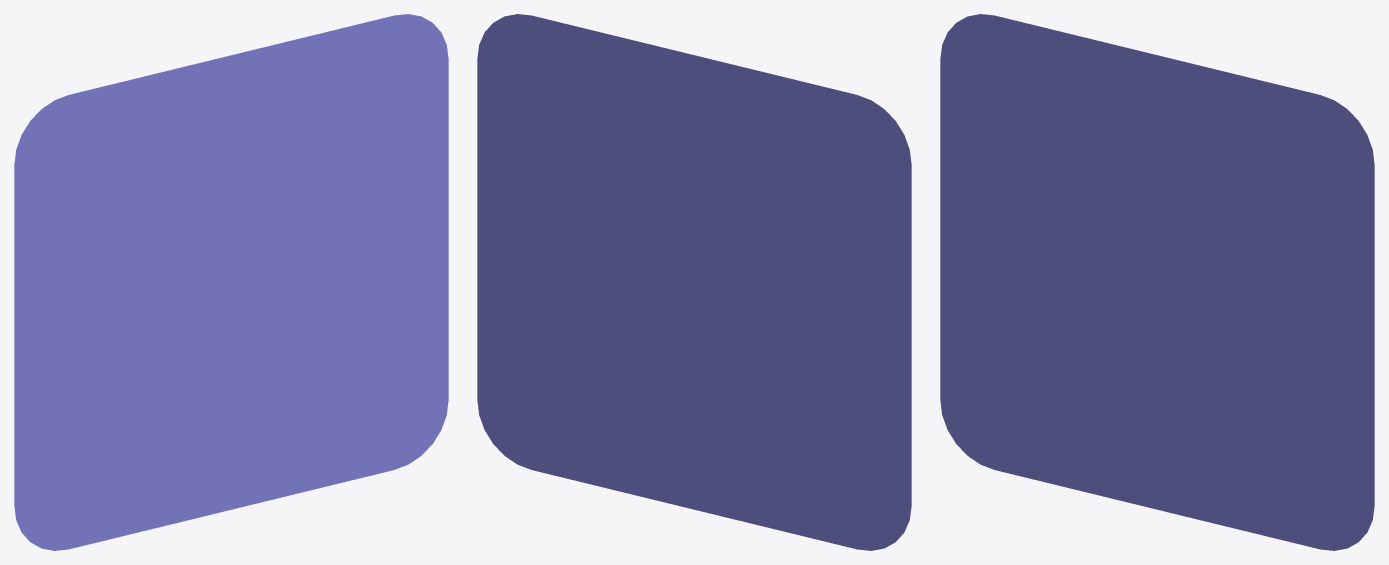
The model's file is original-5.obj.
3 renders of one model, left to right at view 1: azimuth 30°, elevation 25°; view 2: azimuth 150°, elevation 25°; view 3: azimuth 330°, elevation 25°, orthographic.
Visible parts, largest first — view 1: #ID42; view 2: #ID42; view 3: #ID42.
Part boxes in pixels (left/top/right/bottom): #ID42: left=14, top=14, right=448, bottom=550; #ID42: left=477, top=14, right=911, bottom=550; #ID42: left=940, top=14, right=1374, bottom=550.
Bounding box in the file's own units: 0.7456 × 0.7456 × 0.
